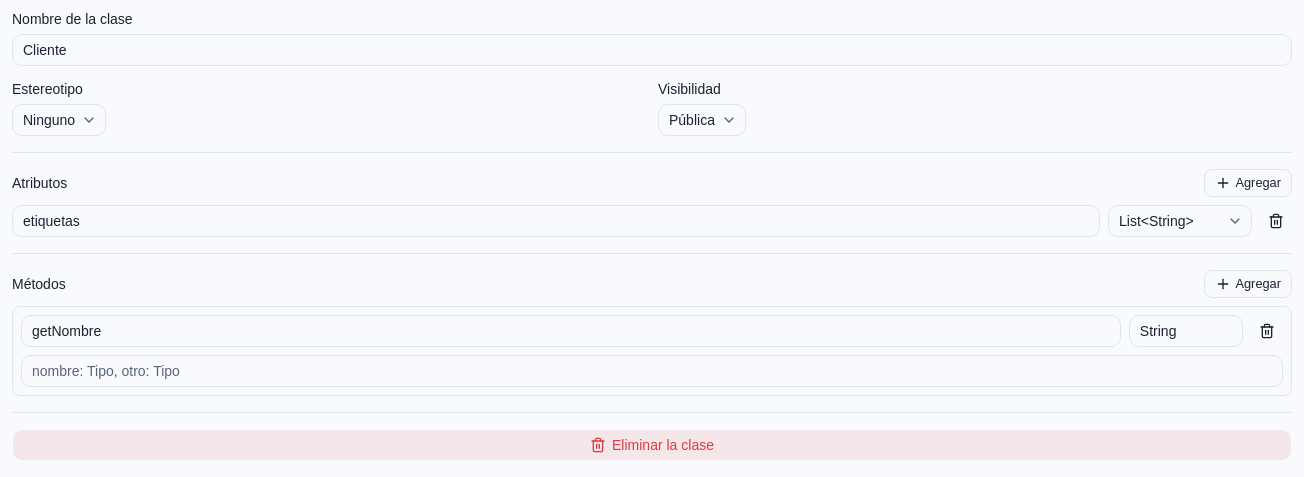
Test case: CU-08 Gestionar clases, atributos y métodos › un tipo guardado que no está en la lista se conserva y se muestra
This screenshot has width=1304, height=477.
Click the dropdown named "Tipo del atributo etiquetas".
click(1180, 221)  # box [1108,205,1252,237]
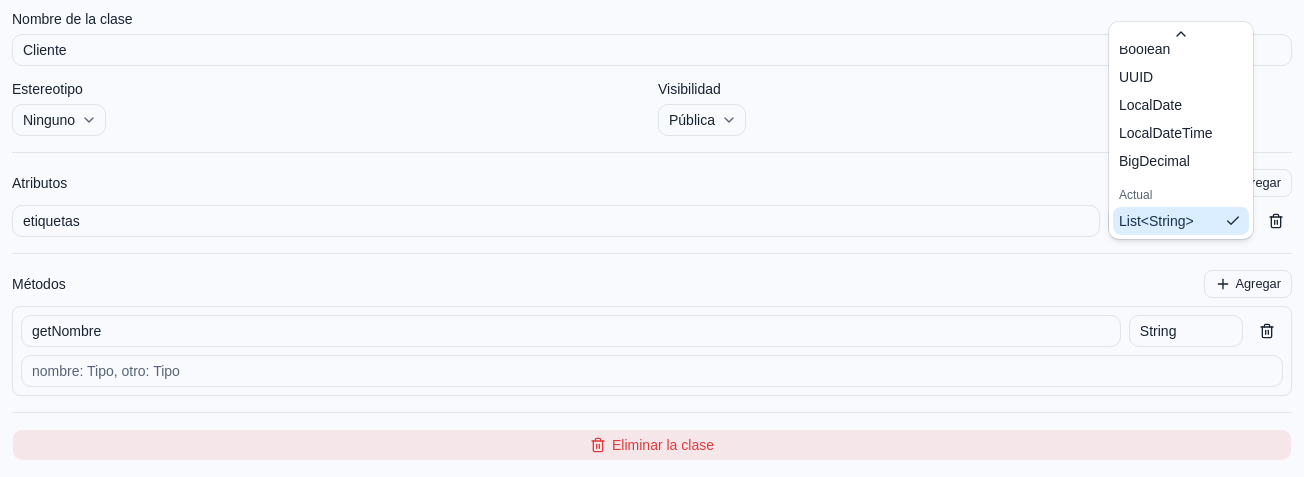
expect the option "List<String>" is shown: met, box [1113,207,1249,235]
